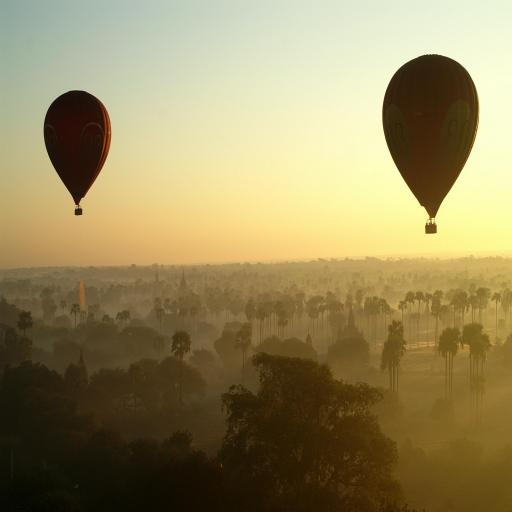hot air ballon: (382, 54, 479, 234), (43, 89, 112, 216)
